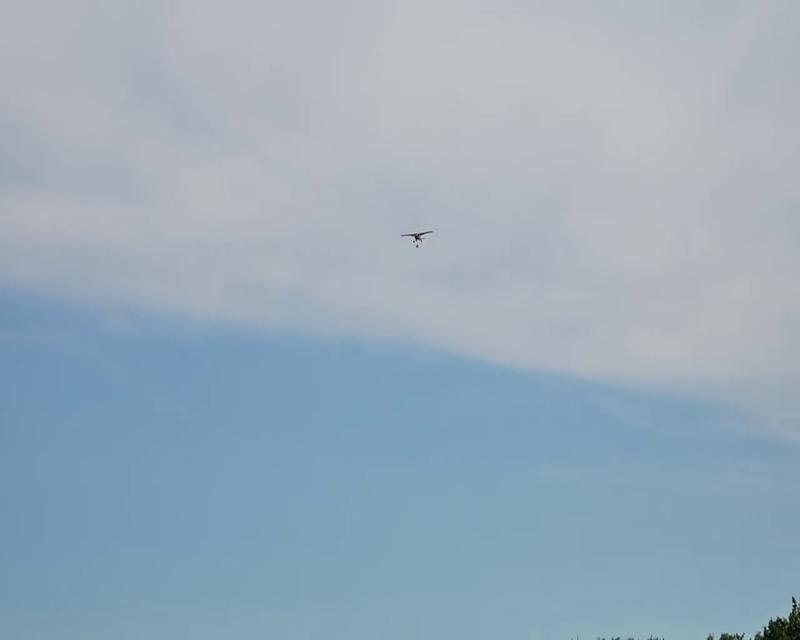UAV: (400, 229, 433, 248)
